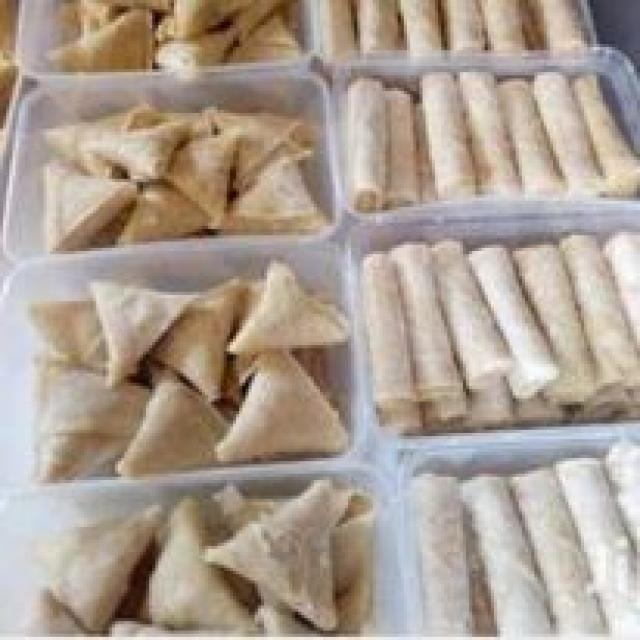Samosa: (34, 0, 366, 624)
Spring Rolls: (350, 6, 640, 630)
